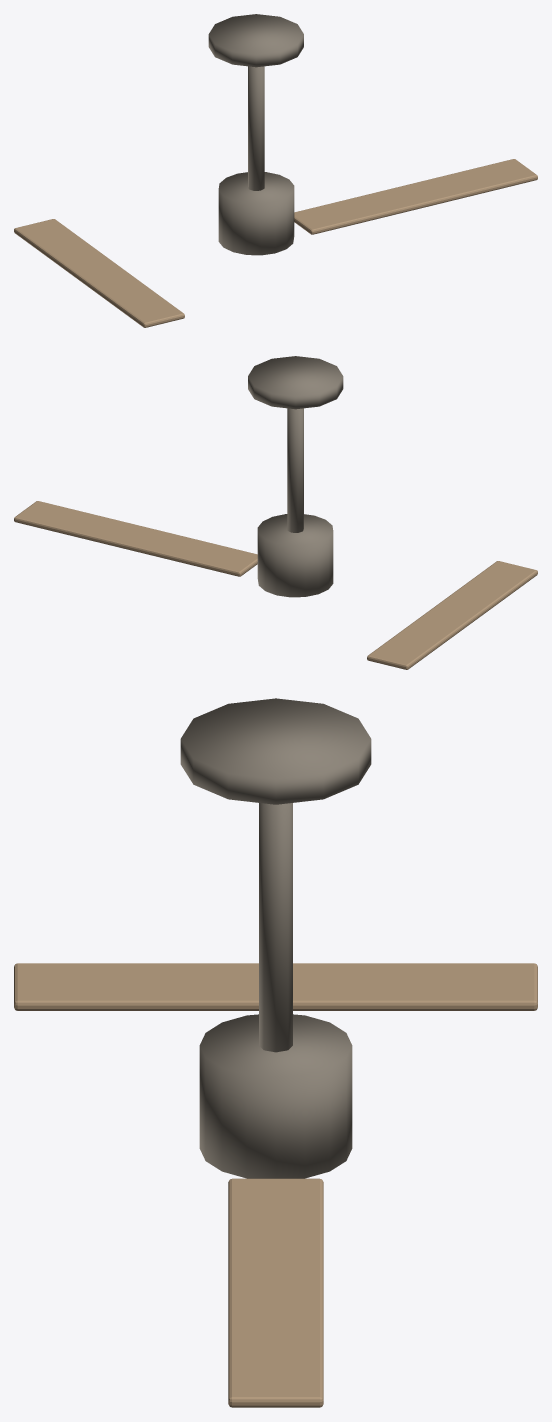
File: ceiling_fan.glb
The picture shows the model from 3 angles, top to bottom: view 1: azimuth 30°, elevation 25°; view 2: azimuth 150°, elevation 25°; view 3: azimuth 270°, elevation 25°; orthographic projection. The views are drawn at different scales.
Visible parts, largest first — view 1: fan_motor, fan_blade2, fan_mount, fan_blade3, fan_blade0, fan_blade1, fan_rod; view 2: fan_blade3, fan_motor, fan_blade2, fan_mount, fan_blade0, fan_rod; view 3: fan_blade1, fan_motor, fan_mount, fan_blade2, fan_blade0, fan_rod, fan_blade3.
Part boxes in pixels (x1=…): fan_motor: x1=218, y1=172, x2=294, y2=255; fan_blade2: x1=294, y1=159, x2=537, y2=234; fan_mount: x1=208, y1=14, x2=303, y2=67; fan_blade3: x1=14, y1=219, x2=184, y2=327; fan_blade0: x1=294, y1=159, x2=537, y2=234; fan_blade1: x1=14, y1=219, x2=184, y2=327; fan_rod: x1=248, y1=66, x2=264, y2=190; fan_blade3: x1=367, y1=561, x2=537, y2=669; fan_motor: x1=257, y1=514, x2=333, y2=597; fan_blade2: x1=14, y1=501, x2=257, y2=576; fan_mount: x1=248, y1=356, x2=343, y2=409; fan_blade0: x1=14, y1=501, x2=257, y2=576; fan_rod: x1=287, y1=408, x2=303, y2=532; fan_blade1: x1=14, y1=963, x2=537, y2=1010; fan_motor: x1=199, y1=1014, x2=352, y2=1178; fan_mount: x1=180, y1=698, x2=371, y2=804; fan_blade2: x1=229, y1=1179, x2=323, y2=1407; fan_blade0: x1=228, y1=1178, x2=322, y2=1407; fan_rod: x1=259, y1=803, x2=292, y2=1052; fan_blade3: x1=14, y1=963, x2=537, y2=1010.
Size of the model in its own units: 1.09 by 0.475 by 0.55.
